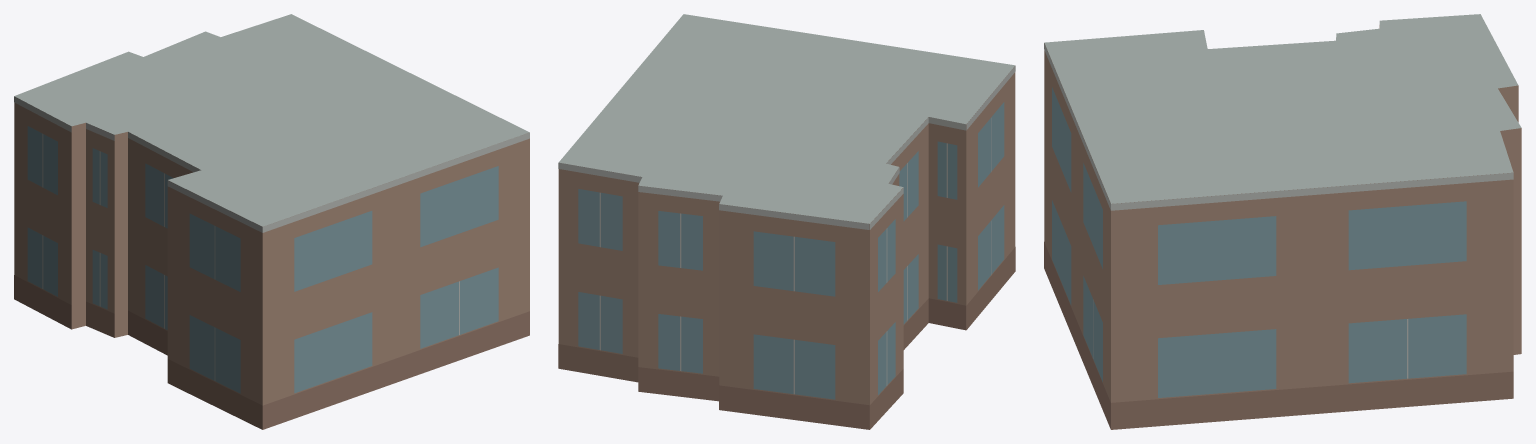
The model's file is survey-upis-32471623.glb.
3 renders of one model, left to right at view 1: azimuth 30°, elevation 25°; view 2: azimuth 150°, elevation 25°; view 3: azimuth 270°, elevation 25°, orthographic. The views are drawn at different scales.
Visible parts, largest first — view 1: survey-upis-32471623.tmp; view 2: survey-upis-32471623.tmp; view 3: survey-upis-32471623.tmp.
Part boxes in pixels (bbox=[...]): survey-upis-32471623.tmp: bbox=[14, 14, 529, 429]; survey-upis-32471623.tmp: bbox=[558, 14, 1015, 429]; survey-upis-32471623.tmp: bbox=[1044, 14, 1521, 429].
Bounding box in the file's own units: 14.41 × 7.99 × 15.31.
